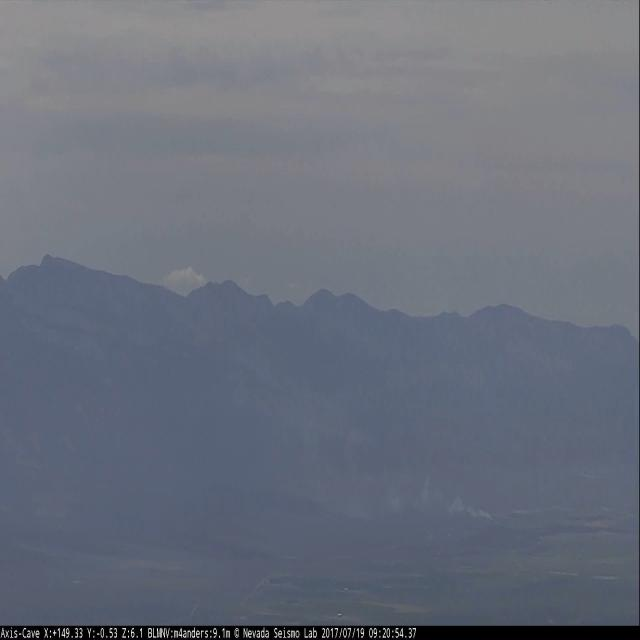smoke: (391, 468, 495, 522)
